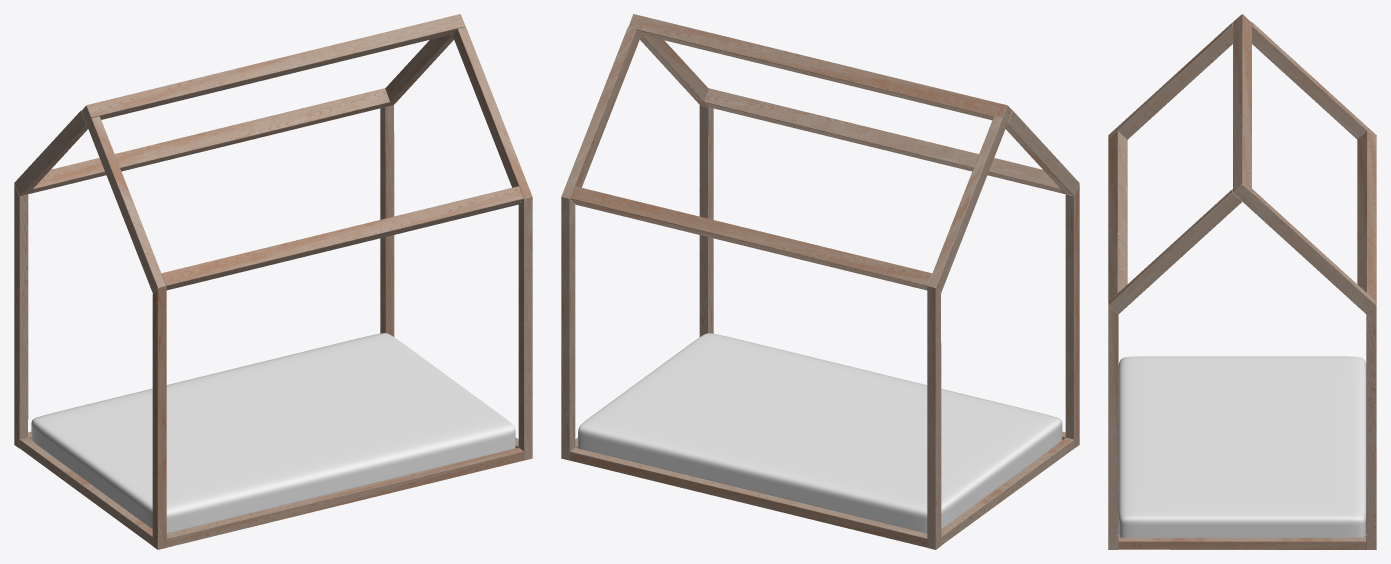
Rendered from housebed.gltf.
3 renders of one model, left to right at view 1: azimuth 30°, elevation 25°; view 2: azimuth 150°, elevation 25°; view 3: azimuth 270°, elevation 25°, orthographic. The views are drawn at different scales.
Visible parts, largest first — view 1: Mesh2; view 2: Mesh2; view 3: Mesh2.
Boxes of the visible parts, x1,y1,x2,y2 form: Mesh2: (14,14,532,549); Mesh2: (561,14,1079,549); Mesh2: (1108,14,1376,549).
Bounding box in the file's own units: 1.49 × 1.49 × 0.99.
Materials: 1 (1 with a texture image).
